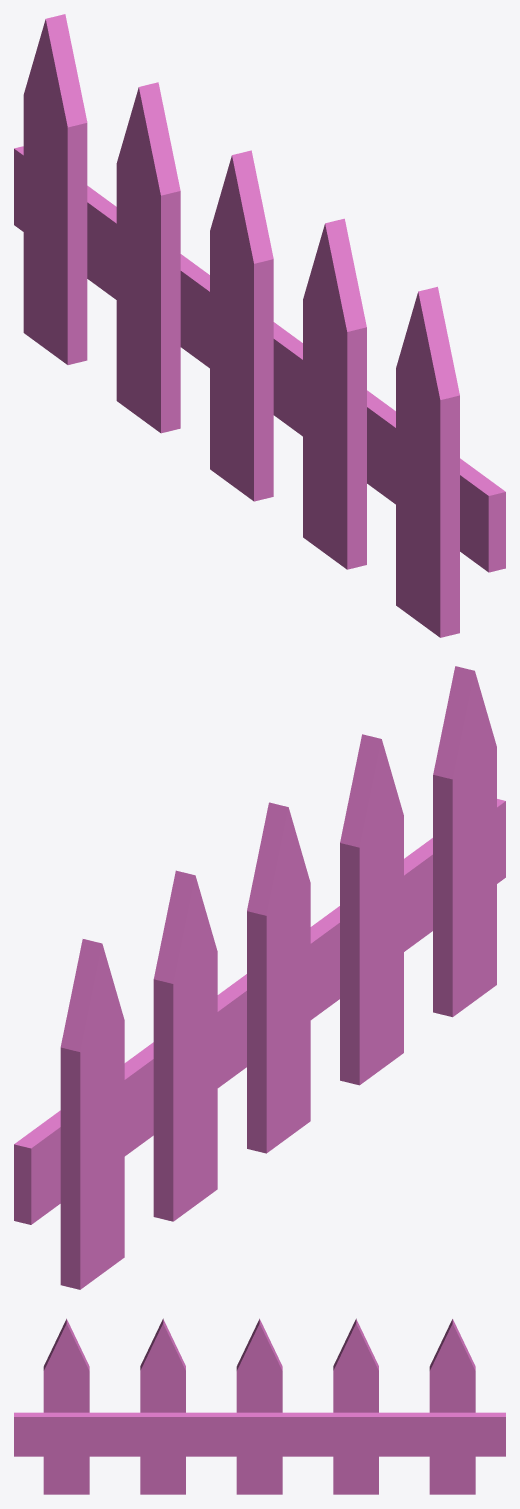
Rendered from hang rao.FBX.
3 renders of one model, top to bottom at view 1: azimuth 30°, elevation 25°; view 2: azimuth 150°, elevation 25°; view 3: azimuth 270°, elevation 25°, orthographic. The views are drawn at different scales.
Parts seen in each view (by area): view 1: Box1903; view 2: Box1903; view 3: Box1903.
Part boxes in pixels (box(x1,y1,x2,y2)): Box1903: box(14, 14, 505, 637); Box1903: box(14, 666, 505, 1289); Box1903: box(14, 1318, 505, 1494).
Bounding box in the file's own units: 0.3048 × 2.6 × 6.79.
